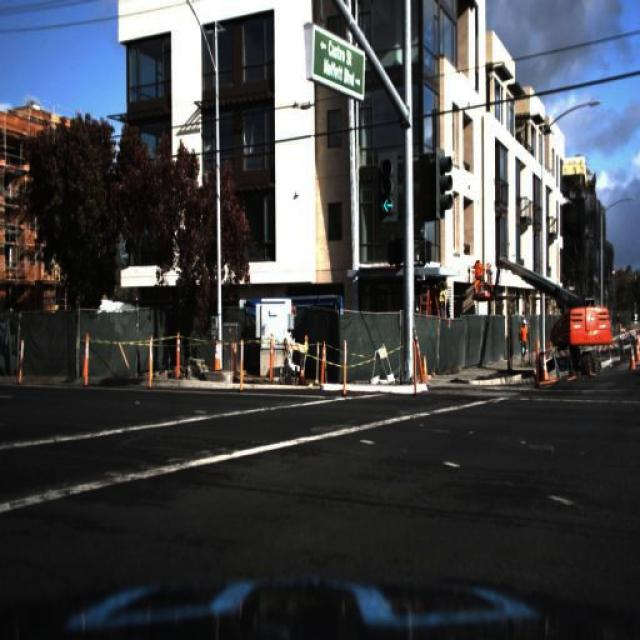semaforo: (378, 151, 398, 221)
